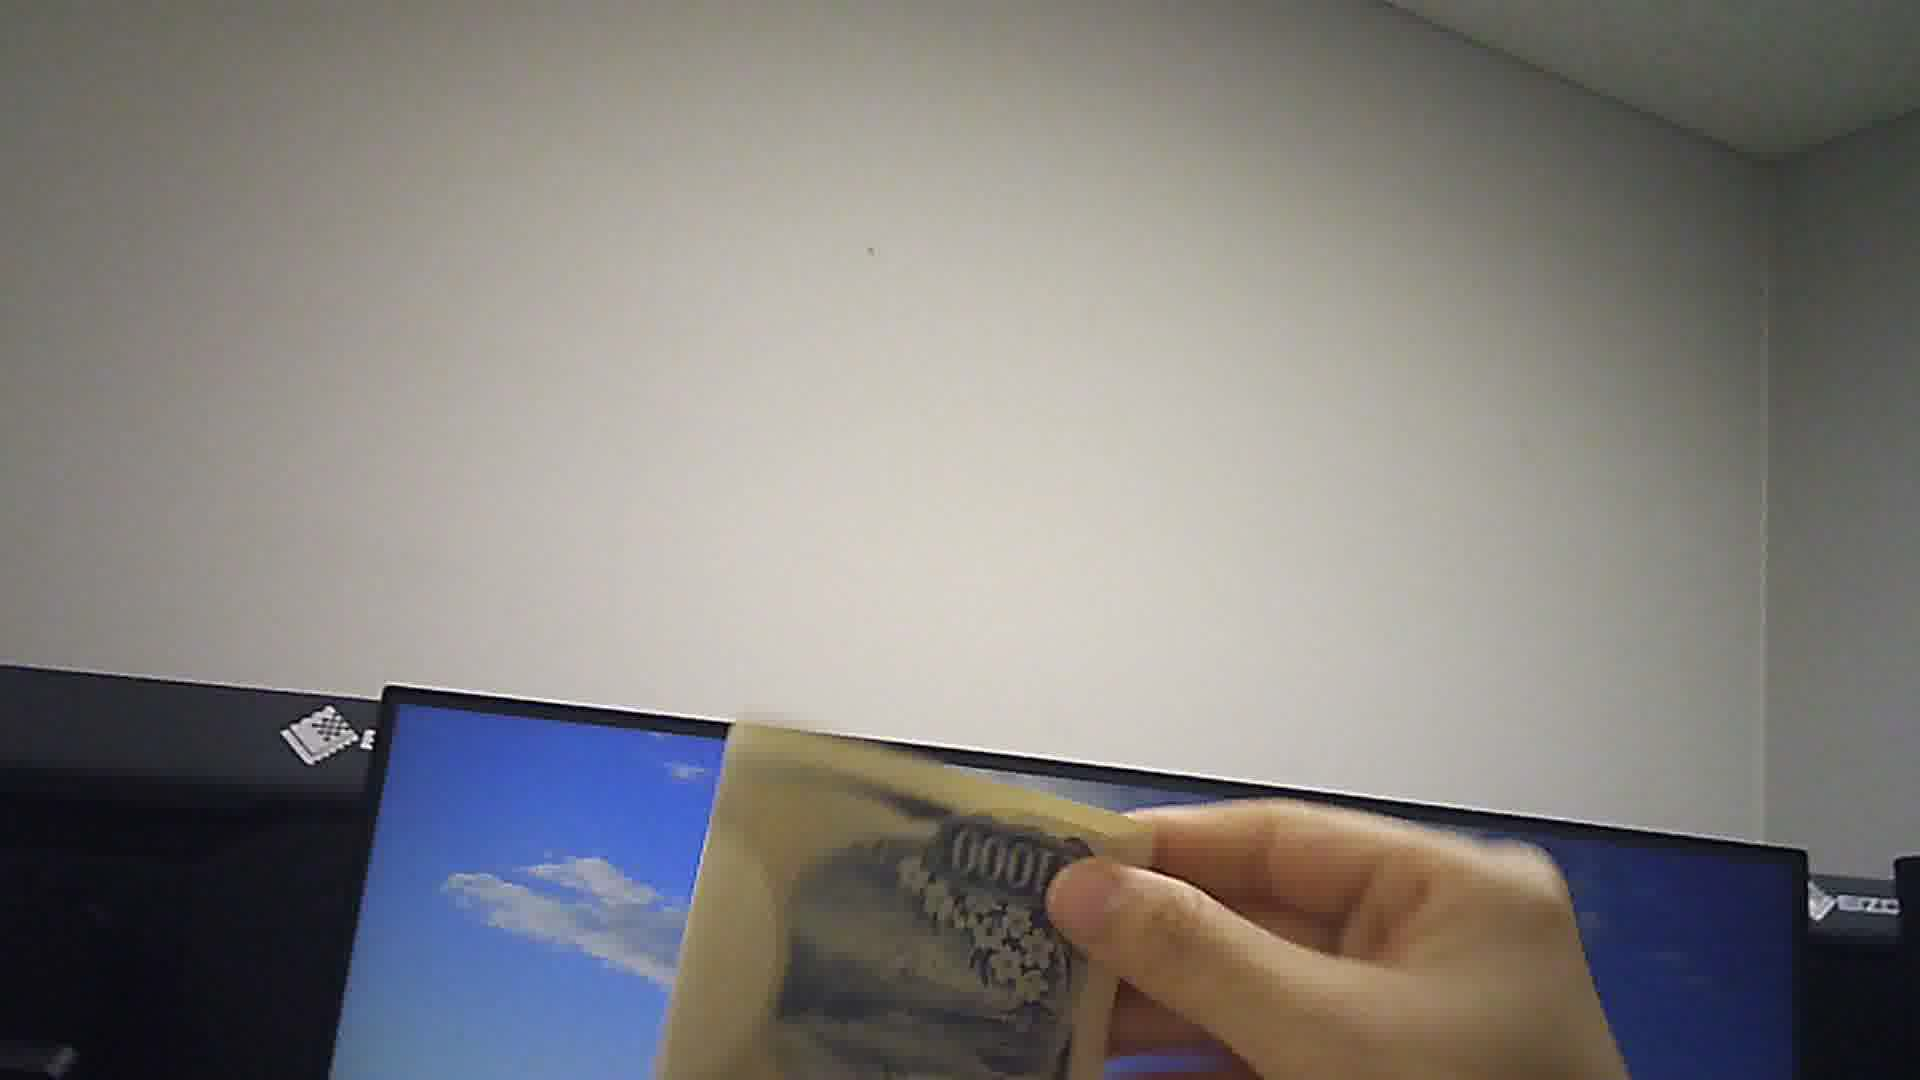1,000 Yen: (665, 709, 1110, 1079)
